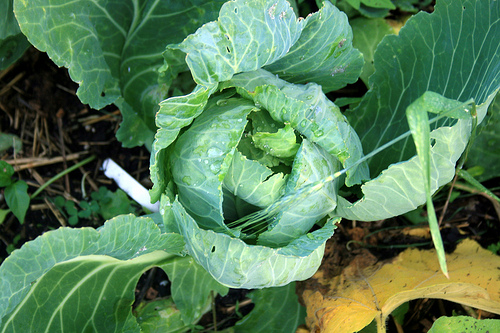cabbage: (152, 73, 369, 290)
